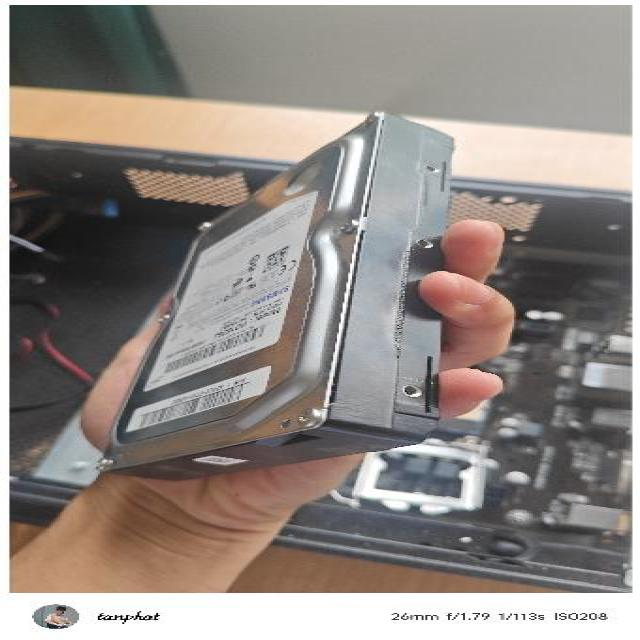DISK: (92, 106, 458, 477)
